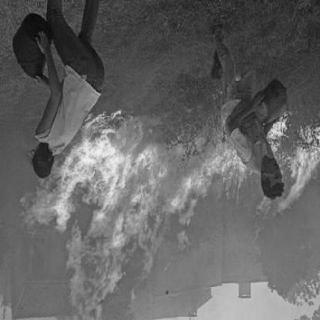Fire: (23, 113, 319, 315)
